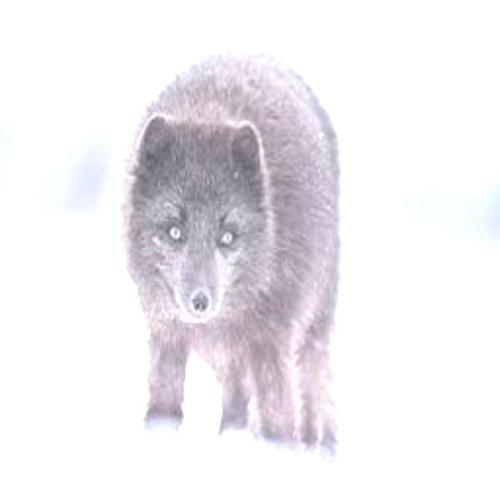arctic_fox-endangered: (139, 60, 348, 452)
